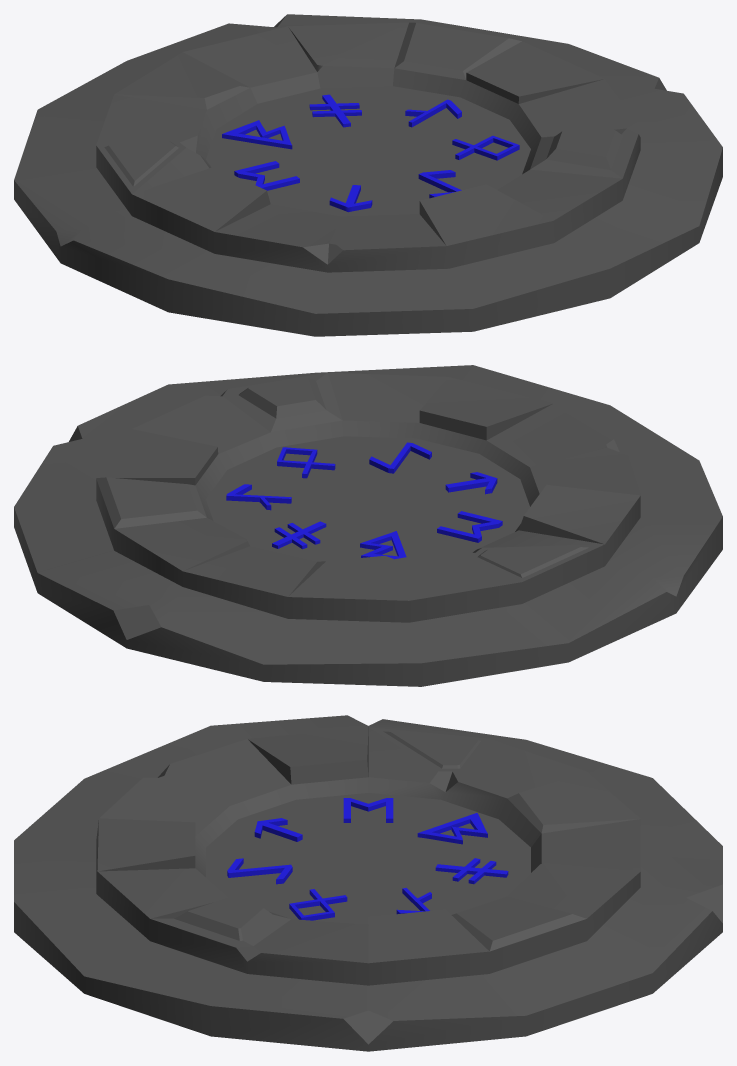
File: Portal.fbx
3 renders of one model, top to bottom at view 1: azimuth 30°, elevation 25°; view 2: azimuth 150°, elevation 25°; view 3: azimuth 270°, elevation 25°, orthographic. The views are drawn at different scales.
Parts seen in each view (by area): view 1: Cylinder002, Box012, Box015, Box013, Box011, Box014, Box016, 31; view 2: Cylinder002, Box011, Box013, Box015, Box012, Box016, Box014, 31; view 3: Cylinder002, Box012, Box013, Box015, Box014, Box011, 31.
Part boxes in pixels (box(x1,y1,x2,y2)): Cylinder002: box(14, 14, 722, 336); Box012: box(222, 120, 292, 149); Box015: box(452, 135, 519, 160); Box013: box(309, 94, 361, 127); Box011: box(234, 161, 299, 190); Box014: box(418, 170, 461, 198); Box016: box(405, 99, 461, 127); 31: box(329, 185, 372, 212); Cylinder002: box(14, 365, 722, 686); Box011: box(437, 511, 502, 542); Box013: box(272, 521, 326, 549); Box015: box(277, 447, 335, 478); Box012: box(360, 531, 406, 559); Box016: box(226, 484, 291, 510); Box014: box(369, 442, 431, 473); 31: box(445, 472, 497, 494); Cylinder002: box(14, 715, 722, 1051); Box012: box(417, 813, 487, 844); Box013: box(435, 858, 508, 884); Box015: box(289, 889, 347, 920); Box014: box(227, 858, 292, 884); Box011: box(343, 798, 393, 822); 31: box(254, 818, 302, 841).
Bounding box in the file's own units: 40.95 × 3.8 × 39.92.
